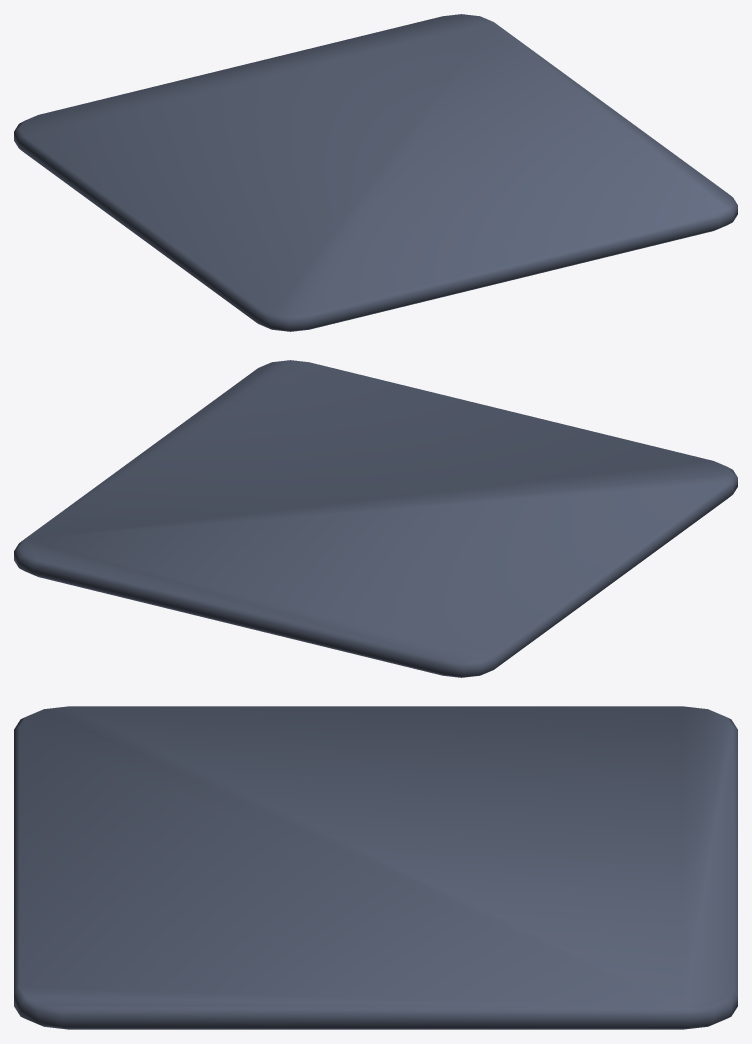
The model's file is test_ground.fbx.
3 views of the same model, one above another, from view 1: azimuth 30°, elevation 25°; view 2: azimuth 150°, elevation 25°; view 3: azimuth 270°, elevation 25° (orthographic). The views are drawn at different scales.
Visible parts, largest first — view 1: Cube; view 2: Cube; view 3: Cube.
Boxes of the visible parts, <box> form: Cube: <box>14,14,737,331</box>; Cube: <box>14,360,737,677</box>; Cube: <box>14,706,737,1029</box>.
Bounding box in the file's own units: 60 × 60 × 2.
